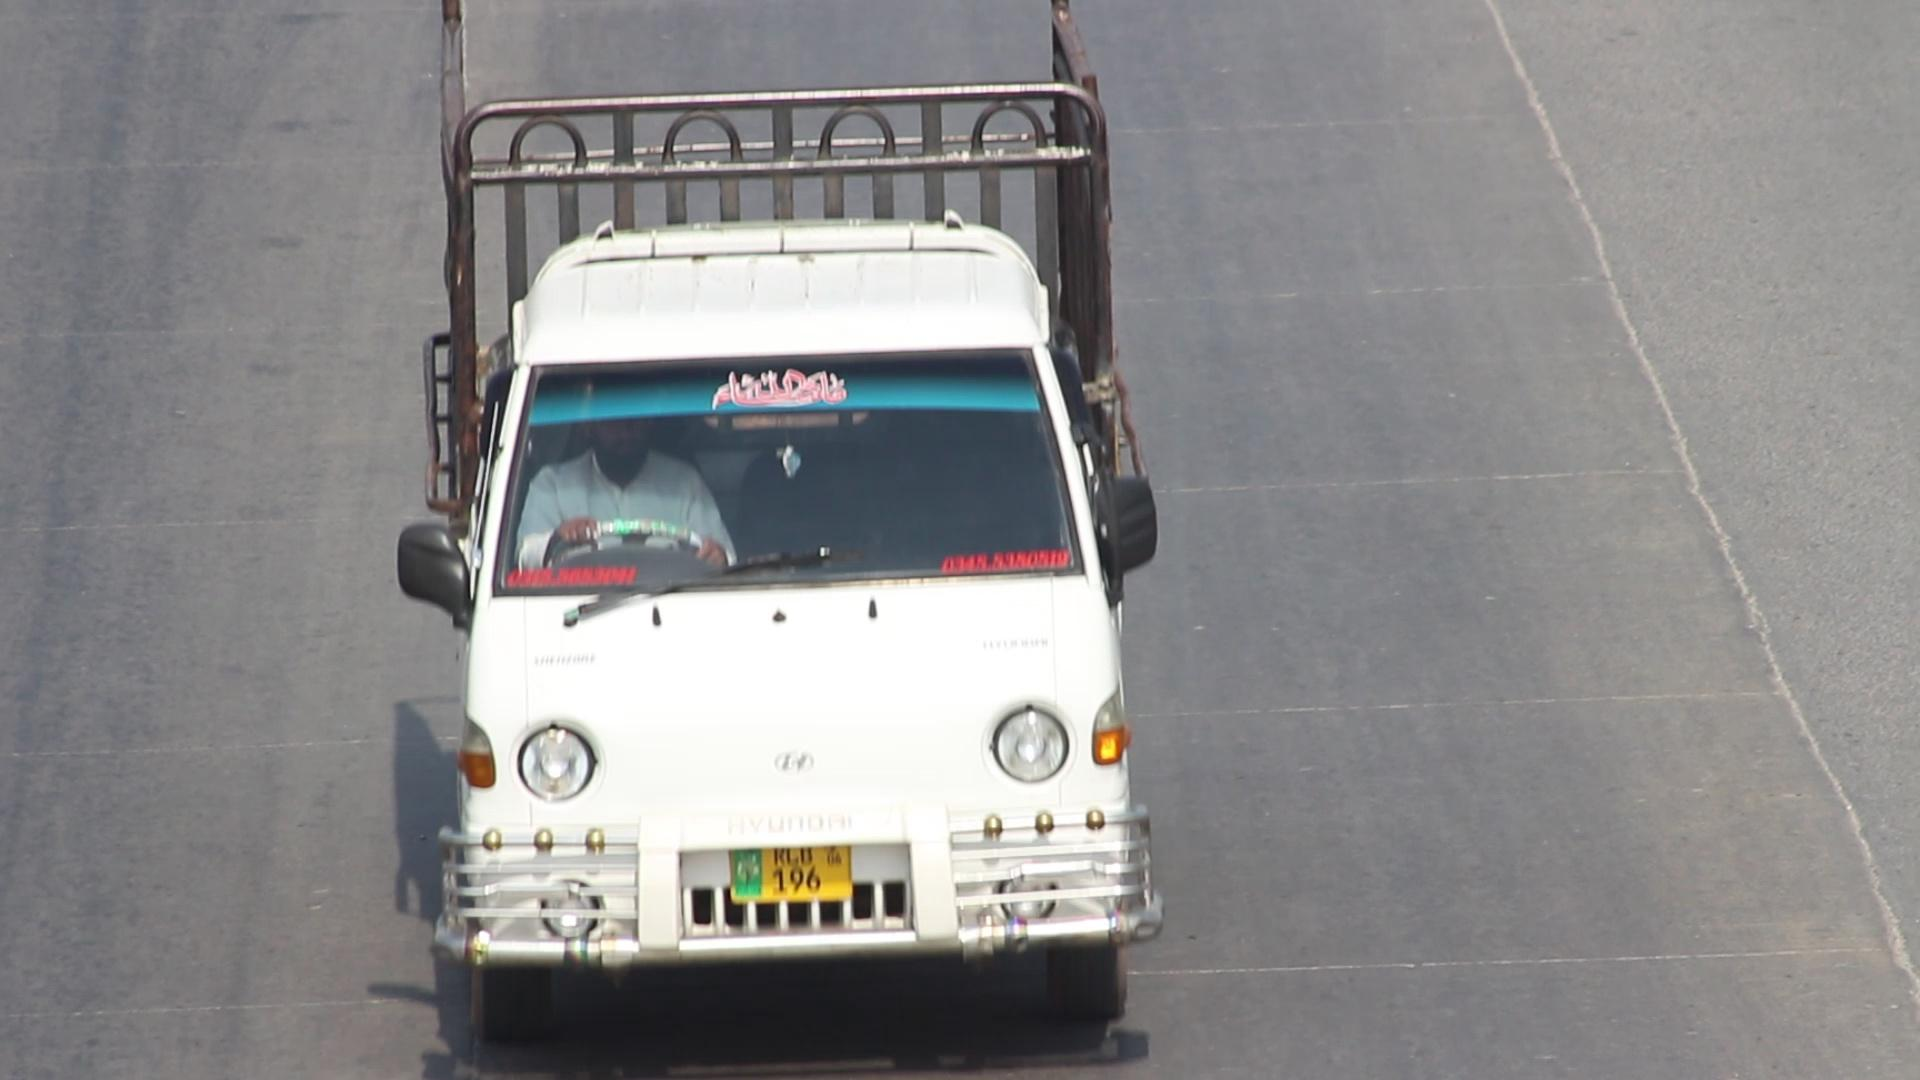windshield: (471, 327, 1097, 613)
